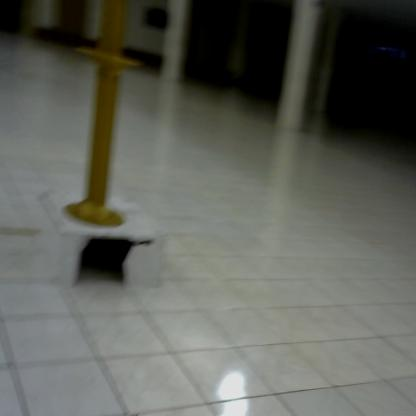pole: (58, 2, 148, 240)
